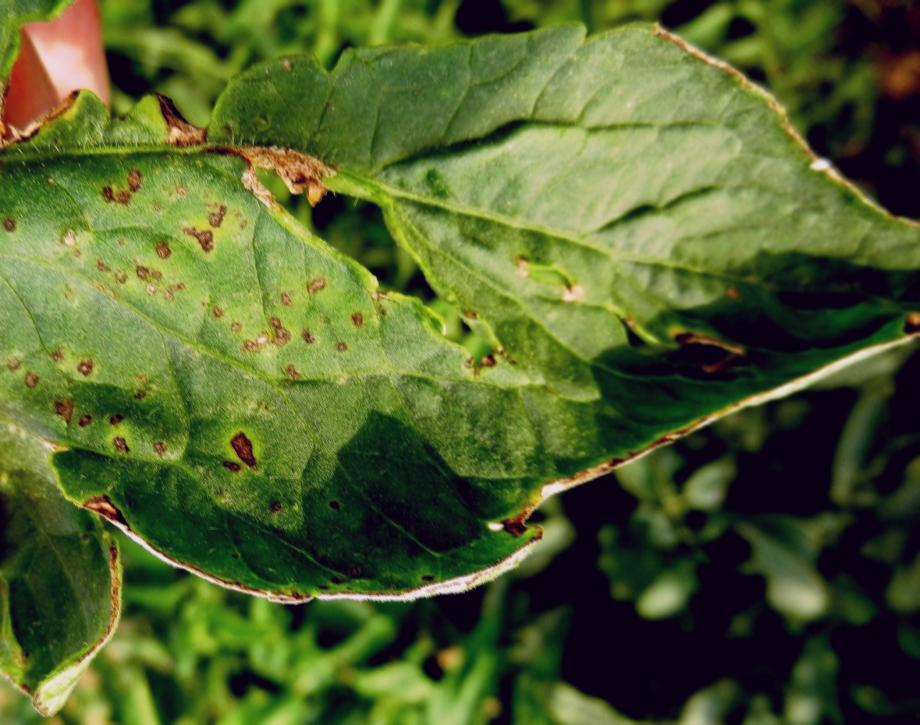Tomato leaf bacterial spot: (16, 40, 905, 634)
